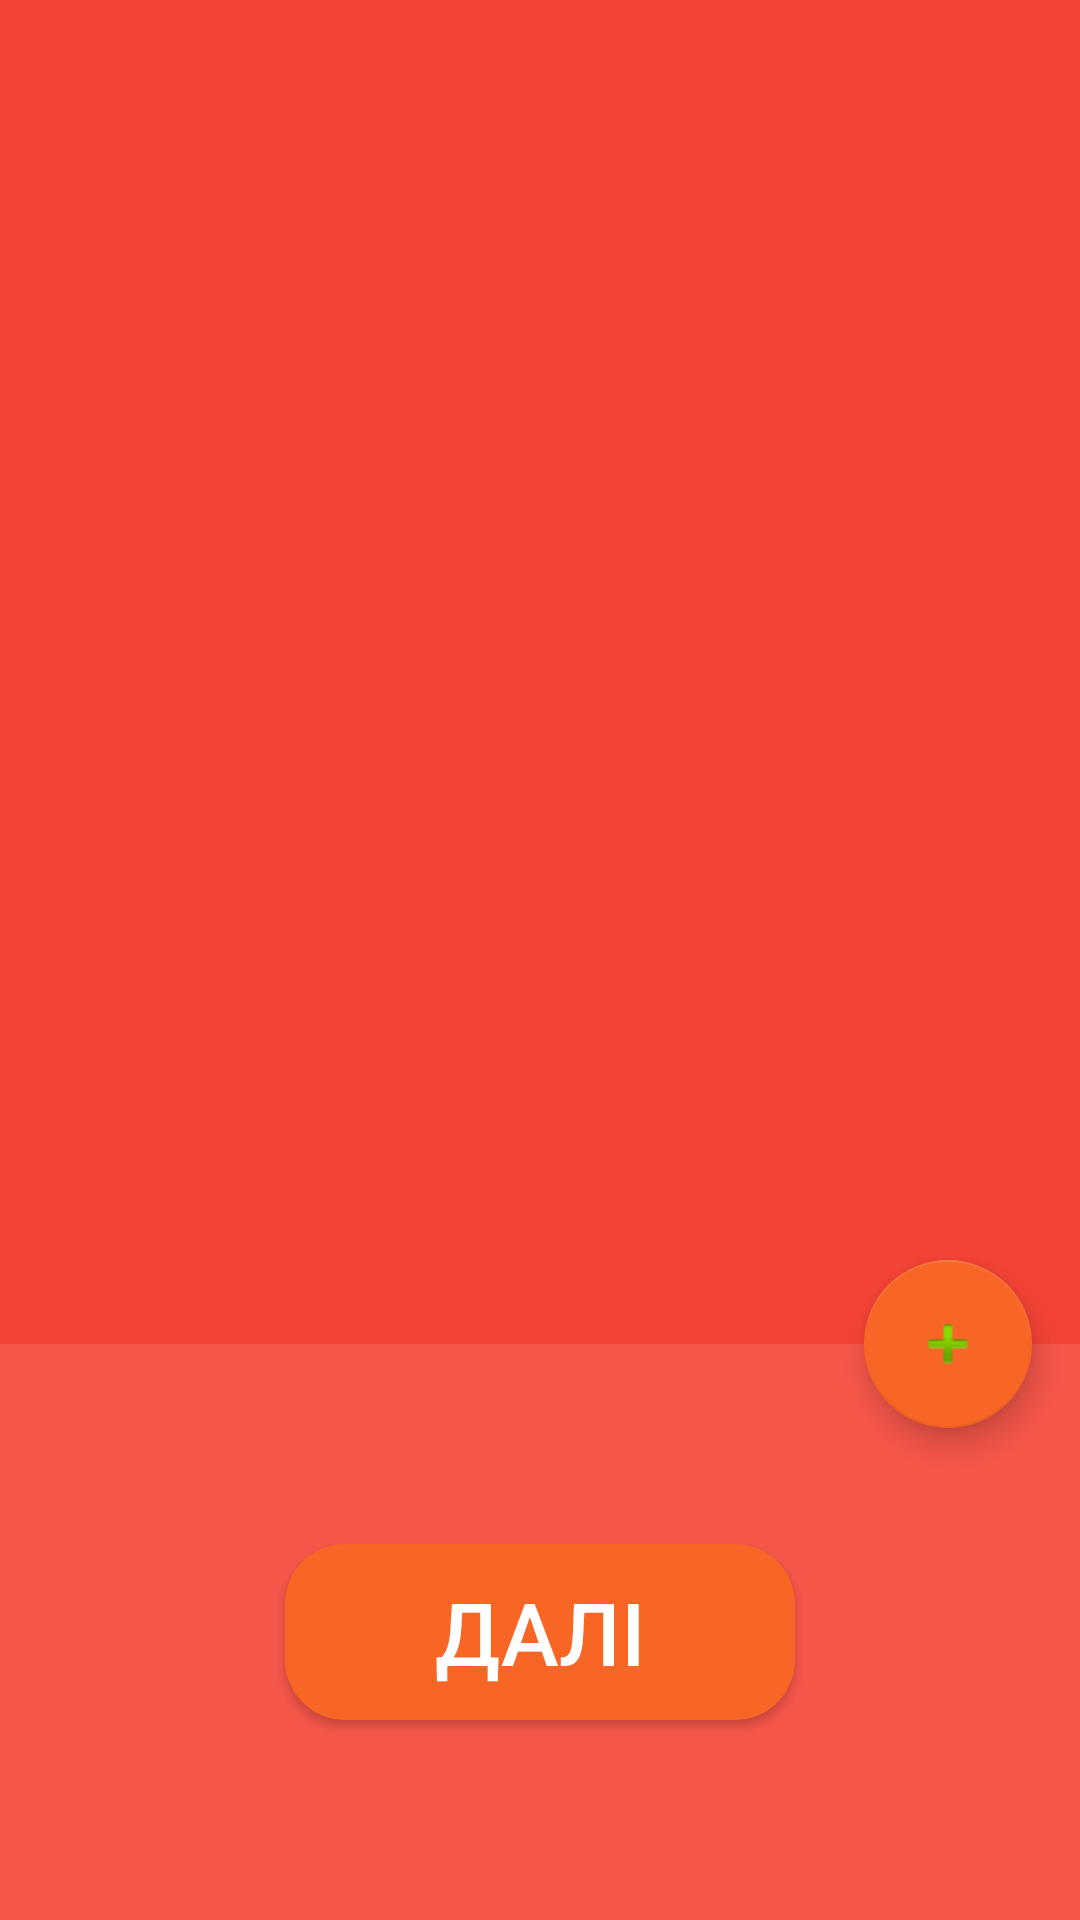

Where icons sit on this 1080 x 1920 app screen, as (x1, y1, x2, y2):
add: (864, 1260, 1032, 1428)
